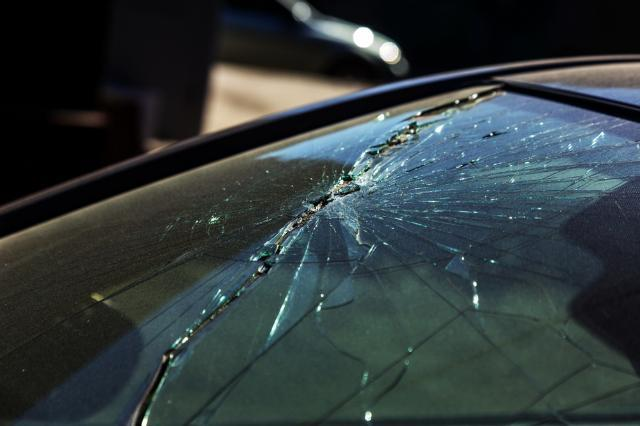glass shatter: (0, 84, 640, 426)
